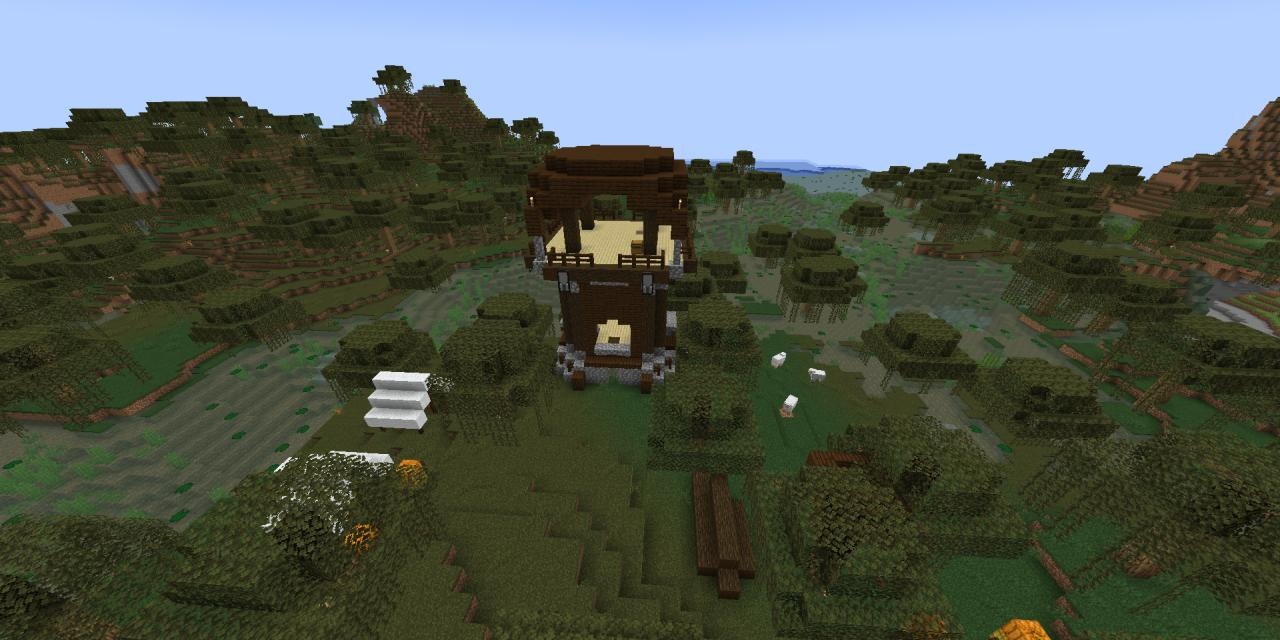pillager outpost: (520, 137, 705, 400)
